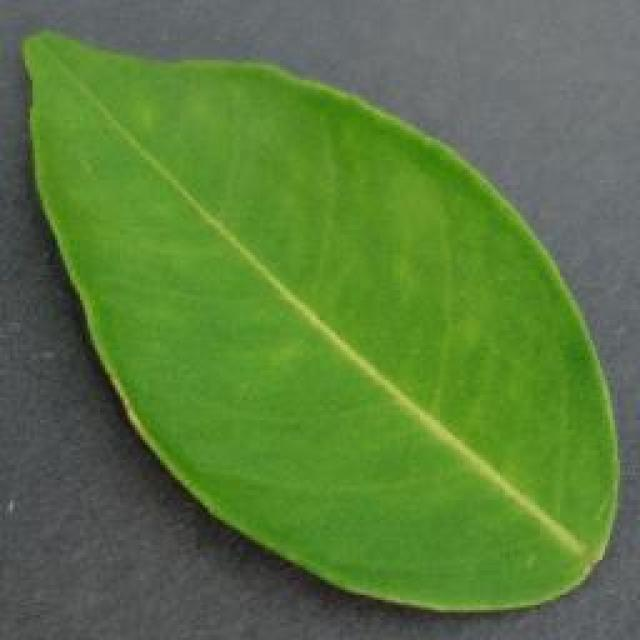Orange_Haunglongbing_Citrus_greening: (72, 89, 598, 525)
